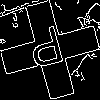P: (25, 25, 69, 78)
